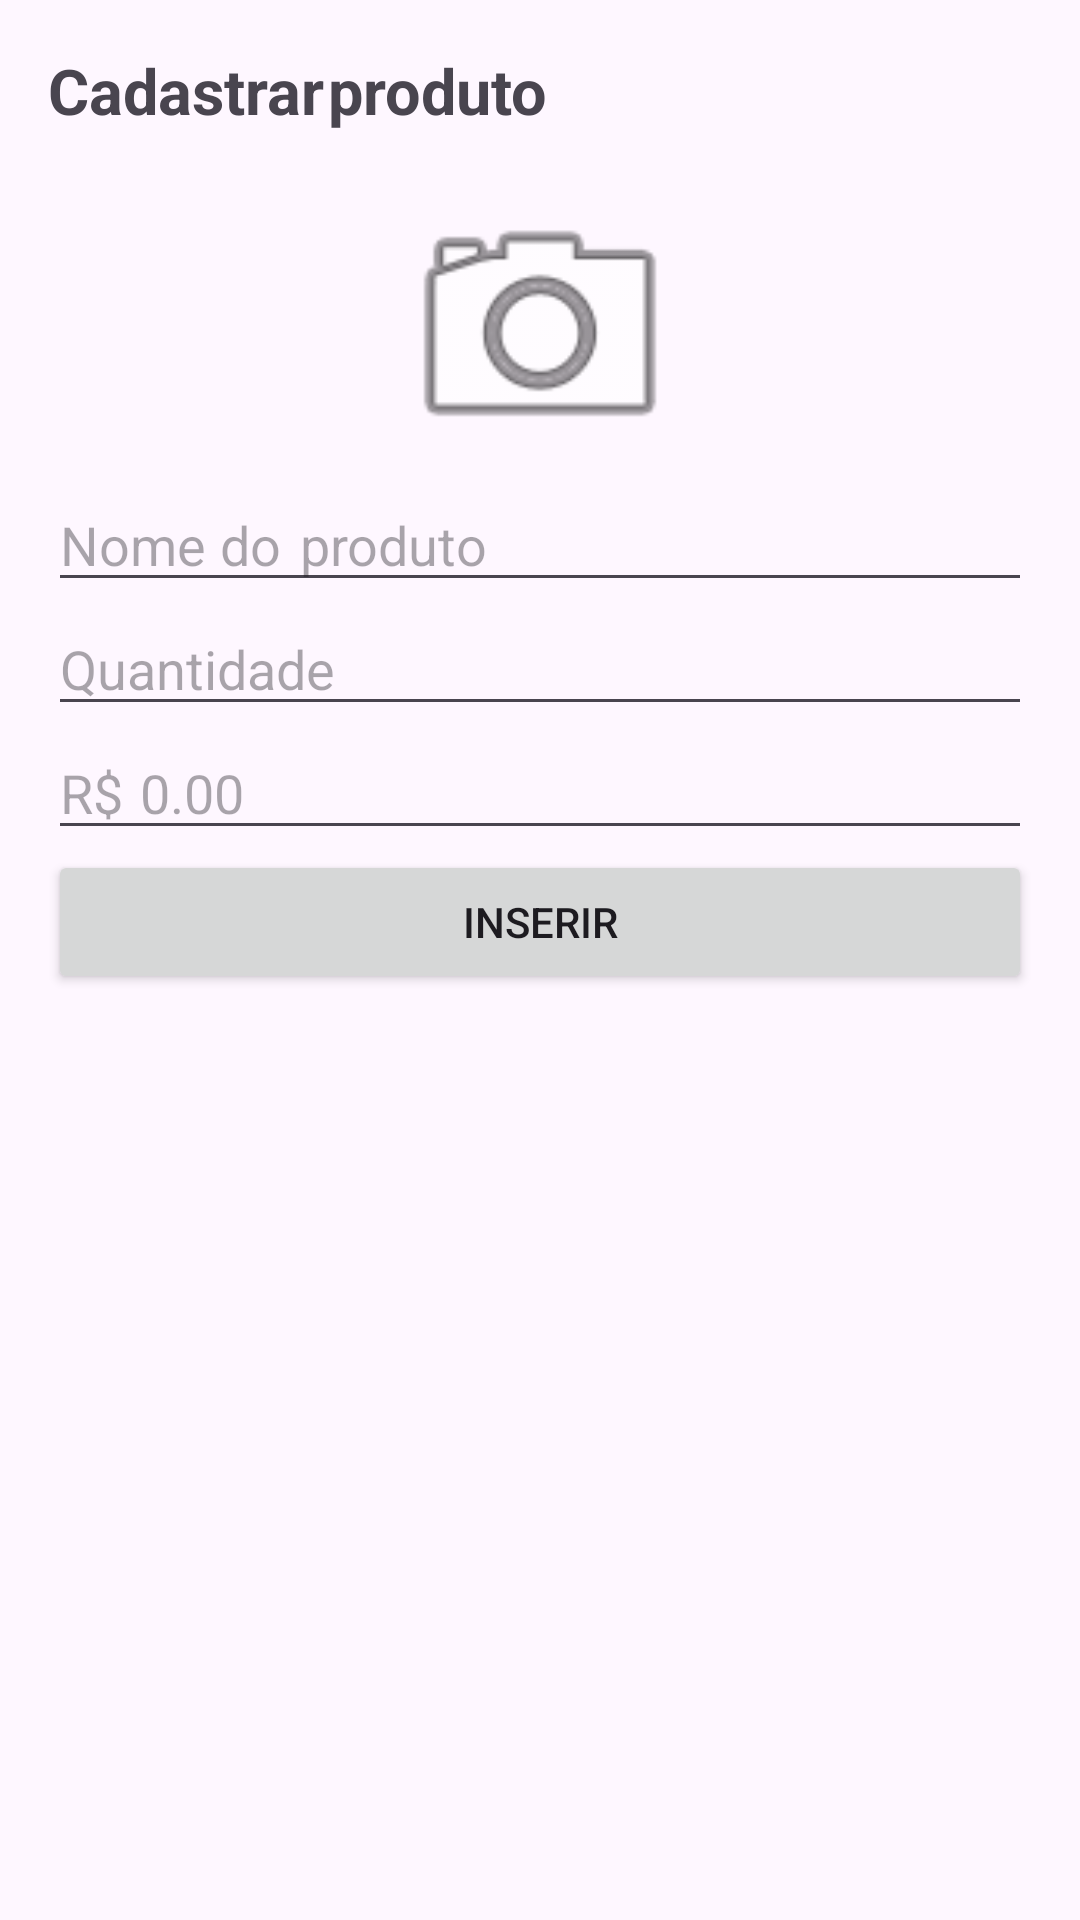

Named icons in this screenshot (1080×1920) and their bounding boxes, [left=x1, top=y1, right=x2, bottom=y2]:
camera: [left=424, top=231, right=656, bottom=416]
